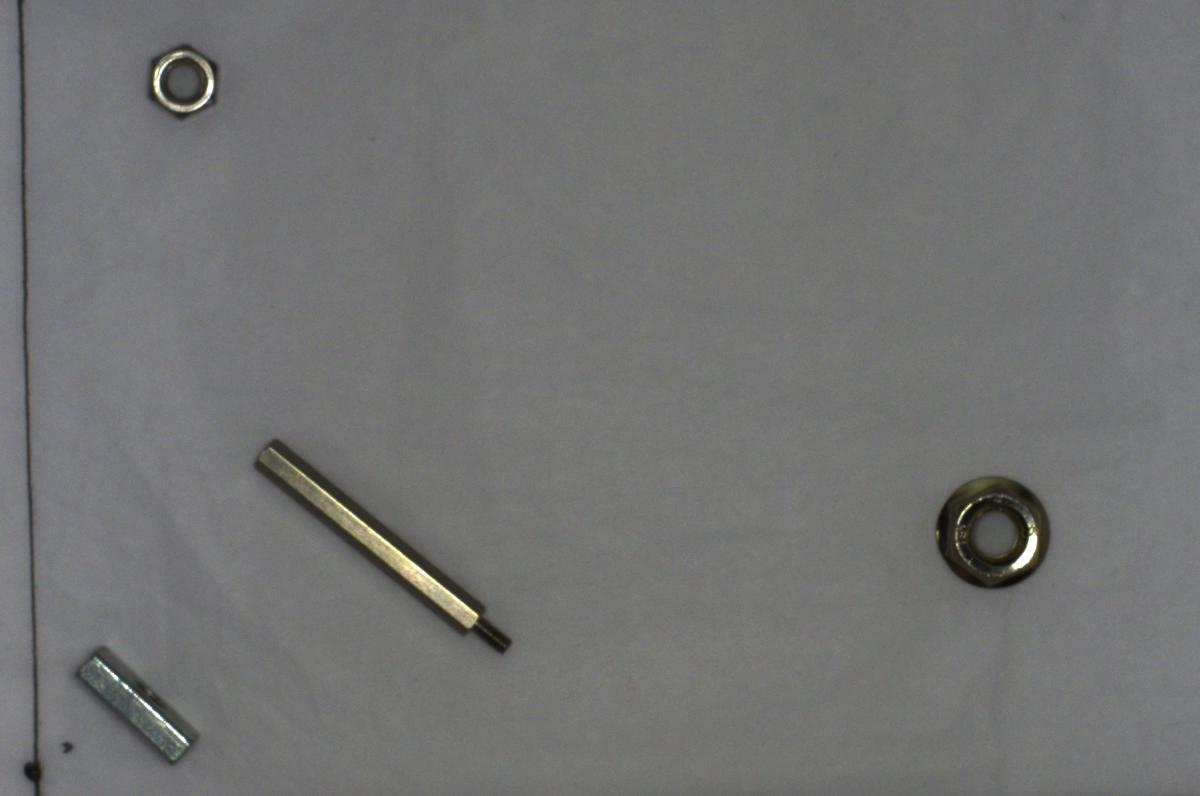Flange nut: (925, 469, 1058, 590)
Hexagon nut: (138, 30, 224, 122)
Hexagonal steel column: (248, 425, 520, 659)
Rectangular nut: (62, 636, 199, 770)
